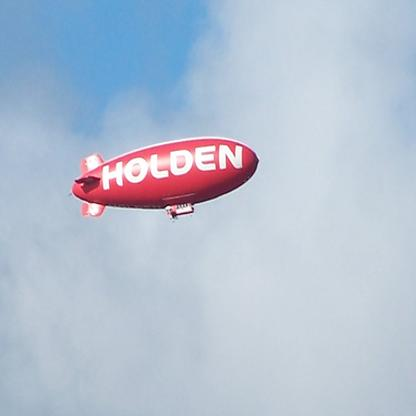Airship: (62, 135, 267, 226)
